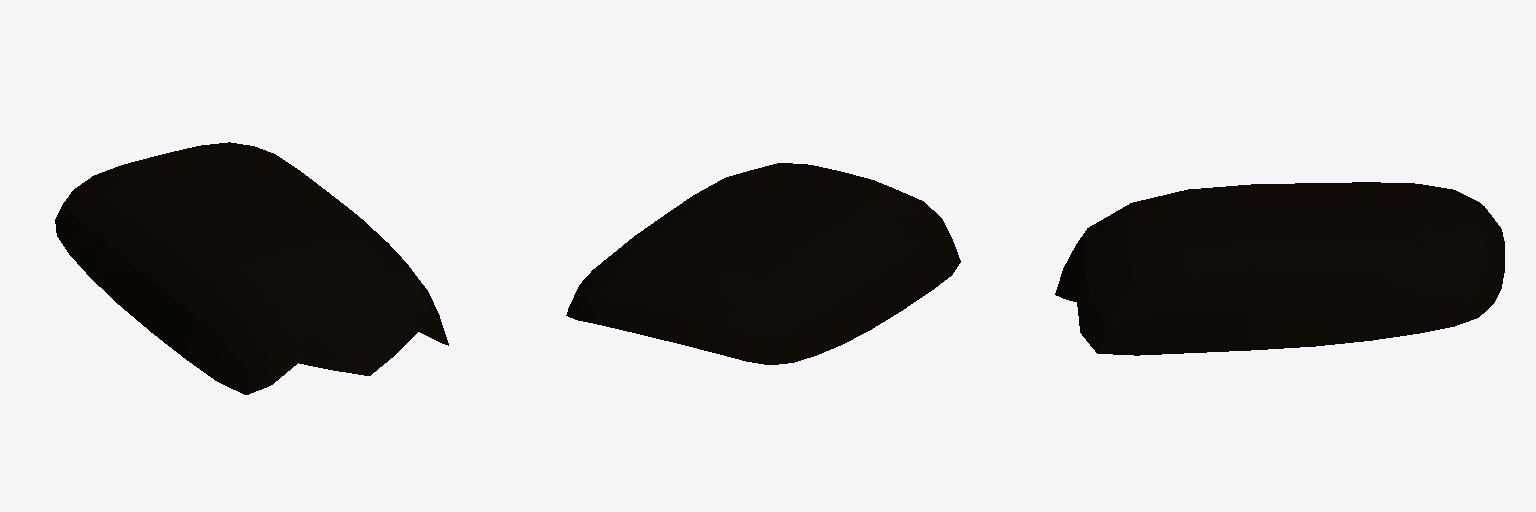
File: DT!Quene(Brown).obj
3 views of the same model, side by side, from view 1: azimuth 30°, elevation 25°; view 2: azimuth 150°, elevation 25°; view 3: azimuth 270°, elevation 25° (orthographic).
Parts seen in each view (by area): view 1: Brown_Cube.024; view 2: Brown_Cube.024; view 3: Brown_Cube.024.
Boxes of the visible parts, box(x1,y1,x2,y2) form: Brown_Cube.024: box(55, 142, 448, 394); Brown_Cube.024: box(566, 163, 960, 364); Brown_Cube.024: box(1055, 182, 1504, 355).
Size of the model in its own units: 0.6013 by 0.229 by 0.9756.